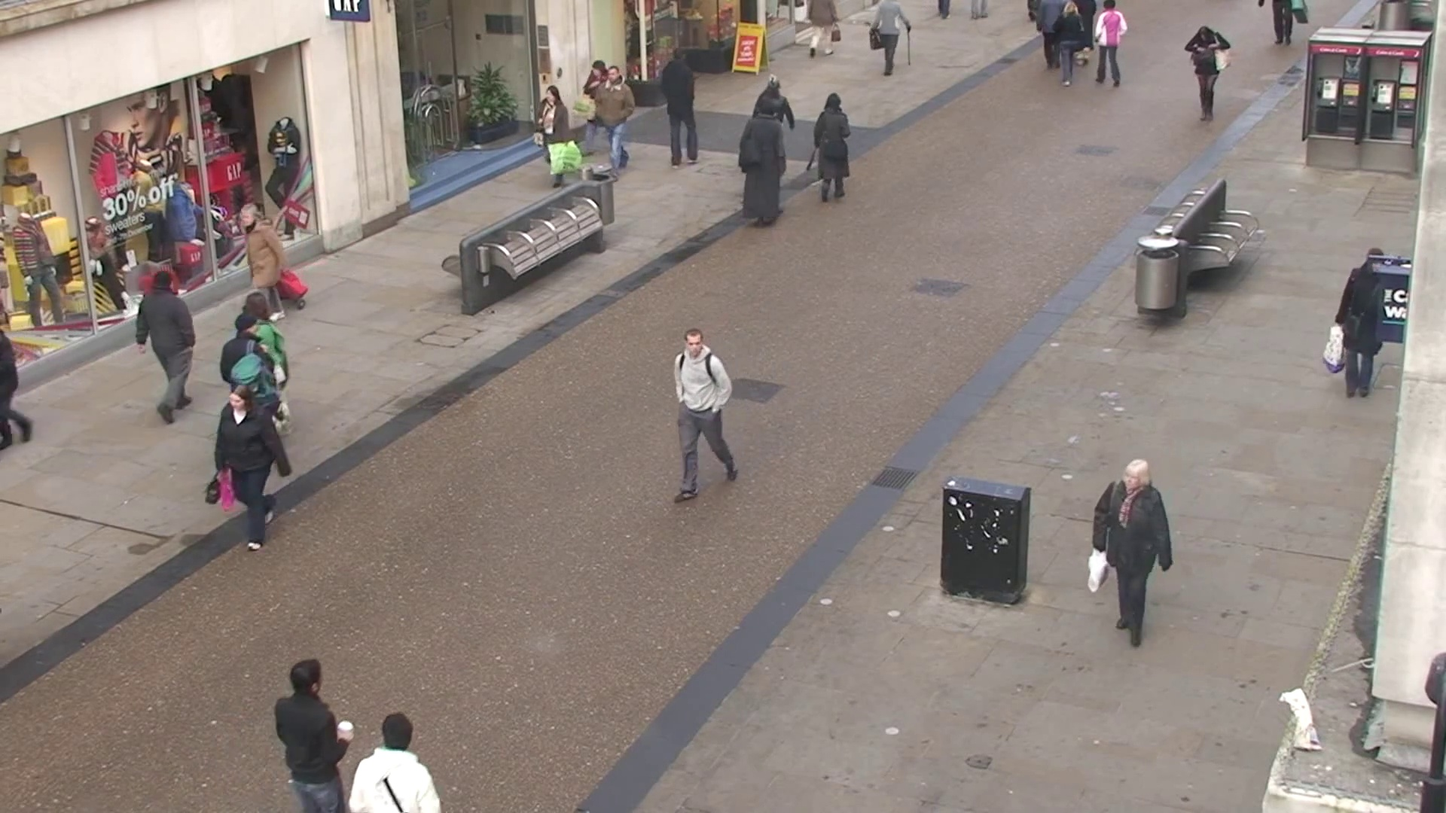person: (1091, 458, 1173, 647), (212, 386, 292, 552), (274, 659, 351, 813), (673, 327, 737, 502), (1331, 249, 1402, 401), (523, 83, 603, 205), (136, 267, 198, 420), (347, 713, 441, 813), (227, 210, 317, 312), (736, 81, 790, 227), (582, 61, 636, 178), (659, 45, 700, 168), (811, 90, 853, 204), (1185, 25, 1233, 122), (0, 321, 29, 449), (868, 1, 912, 76), (1052, 3, 1089, 86), (1095, 0, 1127, 87)
